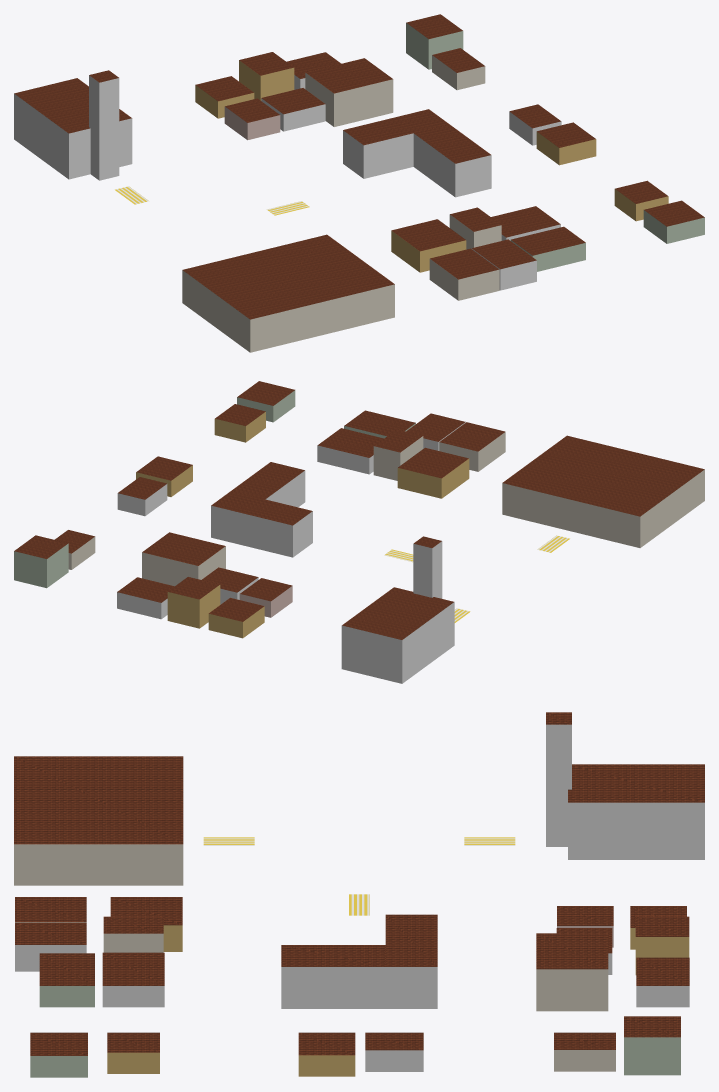
File: cidade_S04_04.gltf
The picture shows the model from 3 angles, top to bottom: view 1: azimuth 30°, elevation 25°; view 2: azimuth 150°, elevation 25°; view 3: azimuth 270°, elevation 25°; orthographic projection. The views are drawn at different scales.
Visible parts, largest first — view 1: S04_04_Estatico; view 2: S04_04_Estatico; view 3: S04_04_Estatico.
Part boxes in pixels (box(x1,y1,x2,y2)): S04_04_Estatico: box(14, 14, 704, 352); S04_04_Estatico: box(14, 381, 704, 683); S04_04_Estatico: box(14, 712, 704, 1077).
Bounding box in the file's own units: 102 × 20.85 × 106.
Materials: 8 (6 with a texture image).
